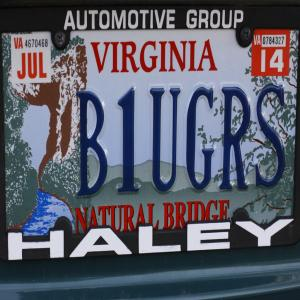Vehicle-registration-plate: (1, 1, 300, 270)
